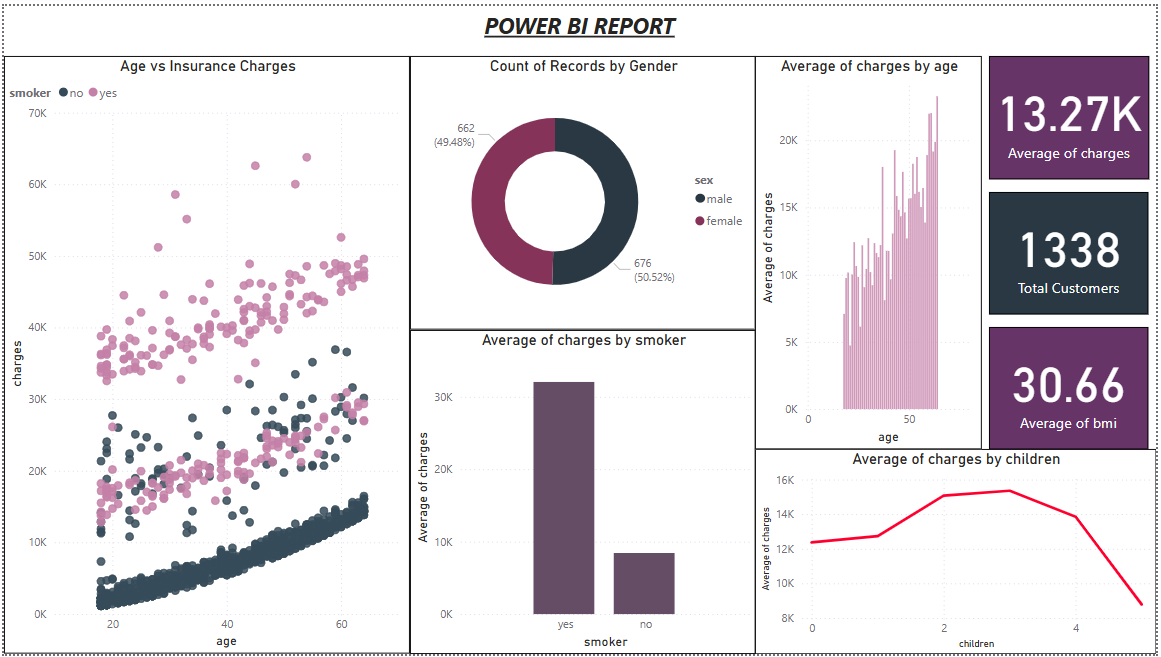

The page's visual inventory and layout, read from the dashboard file:
{"tool":"powerbi","page":{"name":"Page 1","canvas":[1280,720],"ordinal":0},"visuals":[{"type":"scatterChart","title":"Age vs Insurance Charges","fields":{"X":["Insurance.age"],"Y":["Insurance.charges"],"Series":["Insurance.smoker"]},"box":[0,55.6,451.1,664.4],"z":0},{"type":"textbox","box":[510,0,258.9,55.6],"z":1000},{"type":"clusteredColumnChart","fields":{"Category":["Insurance.smoker"],"Y":["Avg(Insurance.charges)"]},"box":[451.1,360,384.4,360],"z":2000},{"type":"lineChart","fields":{"Category":["Insurance.children"],"Y":["Avg(Insurance.charges)"]},"box":[834.4,492.2,445.6,227.8],"z":3000},{"type":"donutChart","title":"Count of Records by Gender","fields":{"Category":["Insurance.sex"],"Y":["CountNonNull(Insurance.sex)"]},"box":[451.1,55.6,384.4,304.4],"z":4000},{"type":"clusteredColumnChart","fields":{"Category":["Insurance.age"],"Y":["Avg(Insurance.charges)"]},"box":[834.4,55.6,252.2,436.7],"z":5000},{"type":"card","fields":{"Values":["Avg(Insurance.charges)"]},"box":[1094.4,55.6,177.8,136.7],"z":6000},{"type":"card","fields":{"Values":["CountNonNull(Insurance.sex)"]},"box":[1094.4,206.7,176.7,135.6],"z":6001},{"type":"card","fields":{"Values":["Avg(Insurance.bmi)"]},"box":[1094.4,356.7,176.7,135.6],"z":6002}]}

Visuals, with their boxes in screenshot pixels (x1, y1, x2, y2), scaled from the page's 1280x720 canvas onto the 1161x657 screenshot:
"Age vs Insurance Charges" scatterChart: {"left": 0, "top": 51, "right": 409, "bottom": 656}
textbox: {"left": 463, "top": 0, "right": 697, "bottom": 51}
clusteredColumnChart - Insurance.smoker x Avg(Insurance.charges): {"left": 409, "top": 328, "right": 758, "bottom": 656}
lineChart - Insurance.children x Avg(Insurance.charges): {"left": 757, "top": 449, "right": 1160, "bottom": 656}
"Count of Records by Gender" donutChart: {"left": 409, "top": 51, "right": 758, "bottom": 328}
clusteredColumnChart - Insurance.age x Avg(Insurance.charges): {"left": 757, "top": 51, "right": 986, "bottom": 449}
card - Avg(Insurance.charges): {"left": 993, "top": 51, "right": 1154, "bottom": 175}
card - CountNonNull(Insurance.sex): {"left": 993, "top": 189, "right": 1153, "bottom": 312}
card - Avg(Insurance.bmi): {"left": 993, "top": 325, "right": 1153, "bottom": 449}
